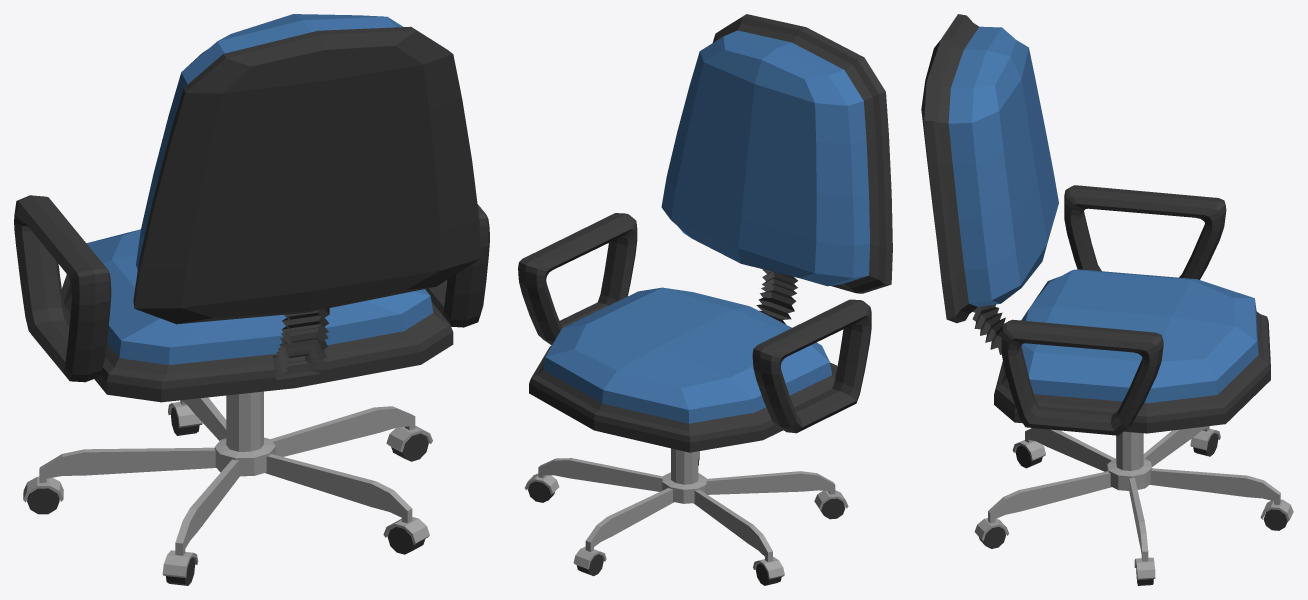
File: silla_oficina.glb
3 renders of one model, left to right at view 1: azimuth 30°, elevation 25°; view 2: azimuth 150°, elevation 25°; view 3: azimuth 270°, elevation 25°, orthographic. The views are drawn at different scales.
Parts seen in each view (by area): view 1: OfficeChair; view 2: OfficeChair; view 3: OfficeChair.
Boxes of the visible parts, x1=… form: OfficeChair: x1=14, y1=14, x2=489, y2=585; OfficeChair: x1=518, y1=14, x2=892, y2=585; OfficeChair: x1=921, y1=14, x2=1293, y2=585.
Bounding box in the file's own units: 1.88 × 2.51 × 1.84.
